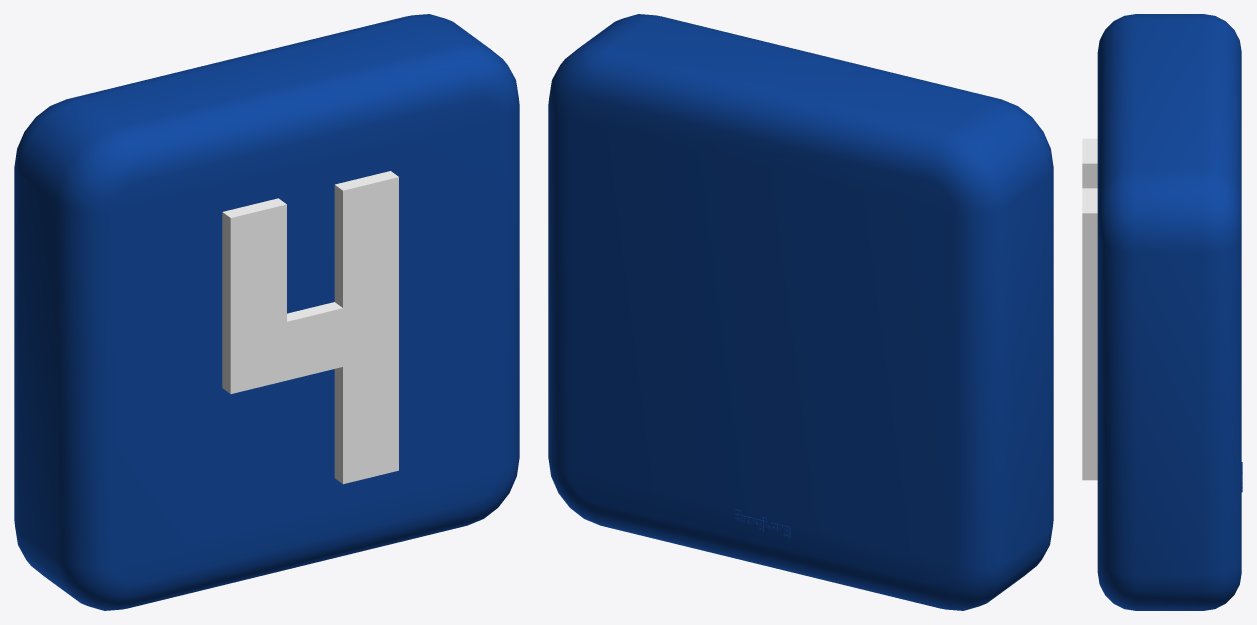
File: keycap_4.fbx
3 renders of one model, left to right at view 1: azimuth 30°, elevation 25°; view 2: azimuth 150°, elevation 25°; view 3: azimuth 270°, elevation 25°, orthographic. The views are drawn at different scales.
Visible parts, largest first — view 1: Cube.6582; view 2: Cube.6582; view 3: Cube.6582.
Boxes of the visible parts, x1,y1,x2,y2 form: Cube.6582: [14, 14, 519, 610]; Cube.6582: [548, 14, 1053, 610]; Cube.6582: [1082, 14, 1242, 610].
Size of the model in its own units: 220 by 220 by 73.37.
1 material, 1 textured.
